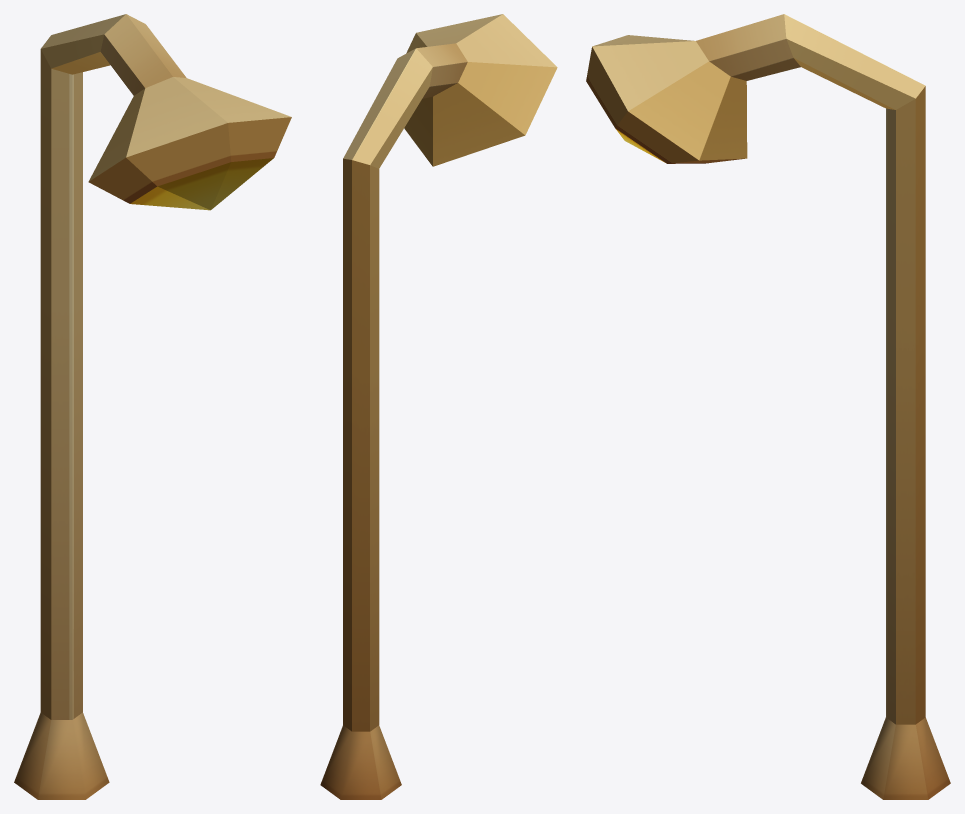
File: shijianguangchang_deng.FBX
The picture shows the model from 3 angles, left to right: view 1: azimuth 30°, elevation 25°; view 2: azimuth 150°, elevation 25°; view 3: azimuth 270°, elevation 25°; orthographic projection. The views are drawn at different scales.
Parts seen in each view (by area): view 1: shijianguangchang_deng; view 2: shijianguangchang_deng; view 3: shijianguangchang_deng.
Part boxes in pixels (bbox=[...]): shijianguangchang_deng: bbox=[14, 14, 291, 799]; shijianguangchang_deng: bbox=[320, 14, 557, 799]; shijianguangchang_deng: bbox=[586, 14, 950, 799].
Size of the model in its own units: 180 by 844 by 363.
1 material, 1 textured.
